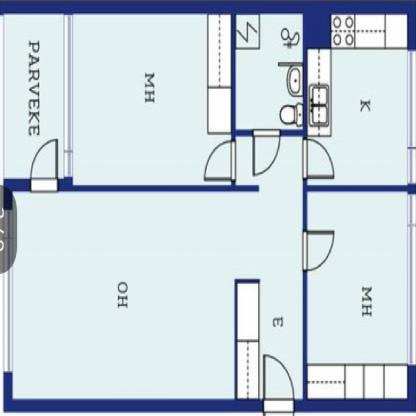door: (262, 355, 294, 416), (28, 138, 62, 193), (301, 230, 340, 276), (201, 139, 238, 185), (301, 137, 337, 182), (253, 127, 281, 182)
window: (3, 210, 14, 373), (63, 12, 72, 175), (408, 193, 416, 365), (408, 49, 415, 184)
zone: (13, 136, 302, 398), (72, 14, 231, 184), (307, 190, 408, 397), (307, 47, 408, 185), (5, 15, 63, 178), (237, 13, 301, 128)
